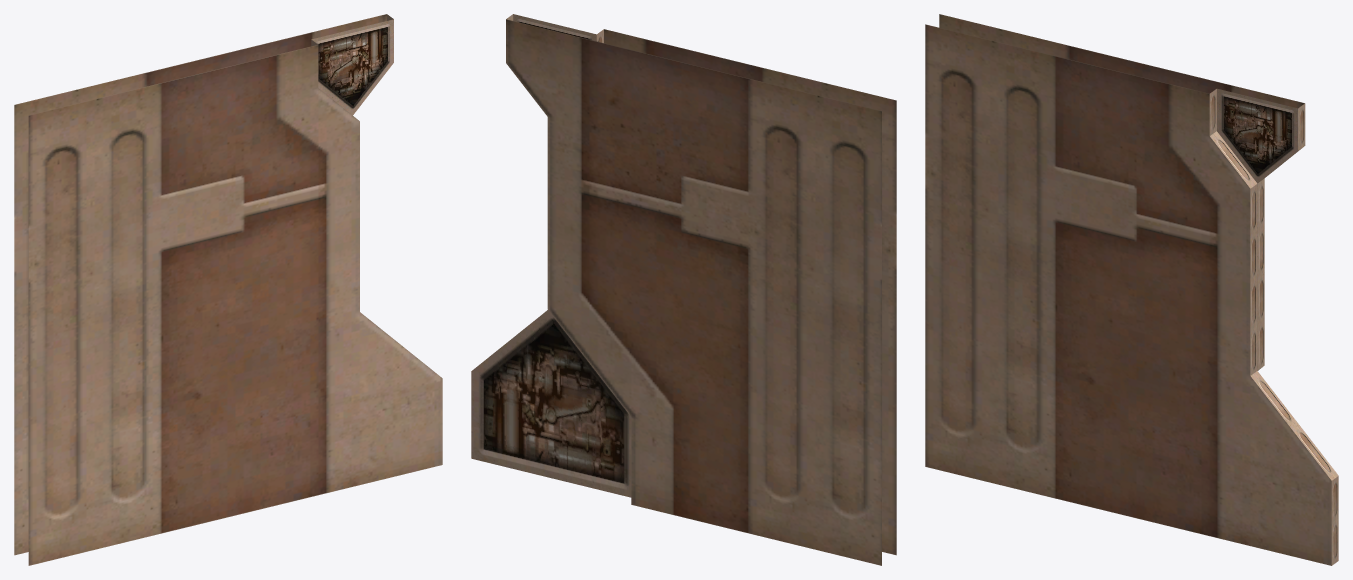
Rendered from door_nboo_emp_s03.fbx.
3 renders of one model, left to right at view 1: azimuth 30°, elevation 25°; view 2: azimuth 150°, elevation 25°; view 3: azimuth 330°, elevation 25°, orthographic. The views are drawn at different scales.
Parts seen in each view (by area): view 1: mesh_node; view 2: mesh_node; view 3: mesh_node.
Boxes of the visible parts, x1,y1,x2,y2 form: mesh_node: [14, 14, 442, 565]; mesh_node: [471, 14, 896, 565]; mesh_node: [925, 14, 1338, 565].
Size of the model in its own units: 5 by 5.2 by 0.3.
